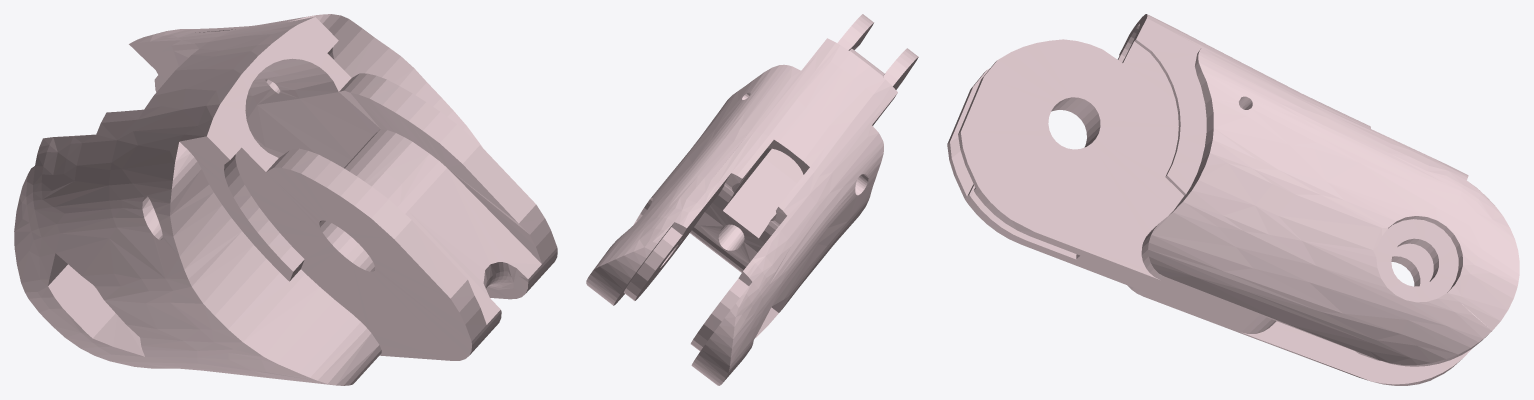
File: i02_rightHand_ringFingerMid_visual.obj.balanced.glb
3 renders of one model, left to right at view 1: azimuth 30°, elevation 25°; view 2: azimuth 150°, elevation 25°; view 3: azimuth 270°, elevation 25°, orthographic. The views are drawn at different scales.
Size of the model in its own units: 0.1926 by 0.2688 by 0.3907.
